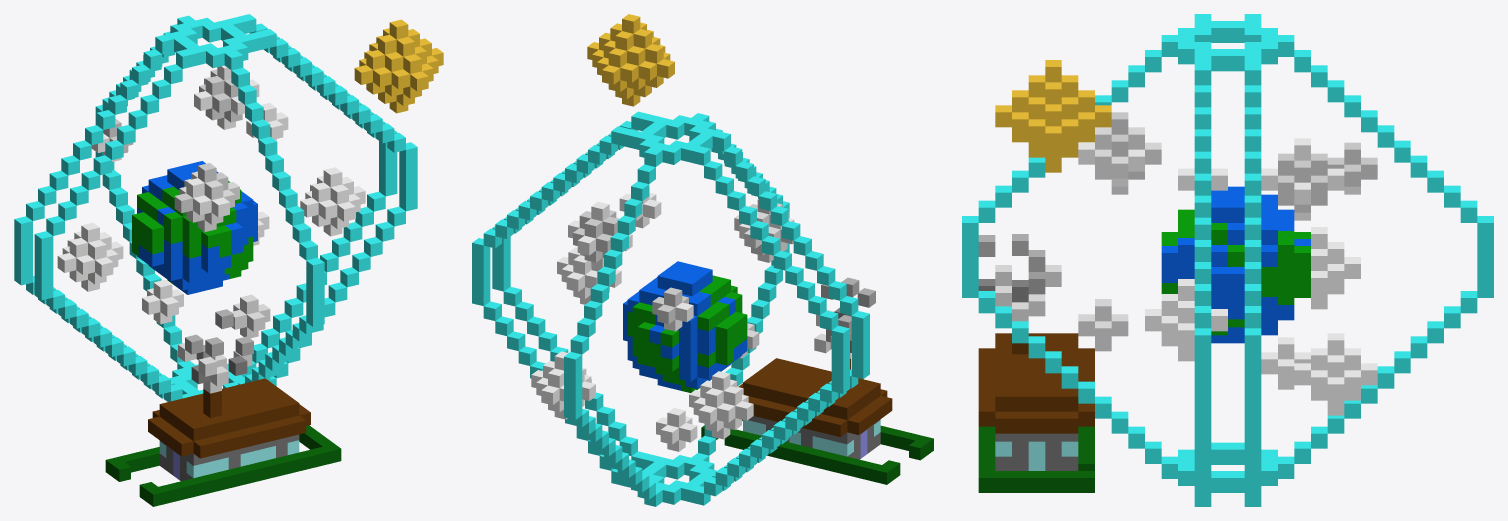
Rendered from household-vox.glb.
3 views of the same model, side by side, from view 1: azimuth 30°, elevation 25°; view 2: azimuth 150°, elevation 25°; view 3: azimuth 270°, elevation 25° (orthographic). The views are drawn at different scales.
Parts seen in each view (by area): view 1: household; view 2: household; view 3: household.
Part boxes in pixels (<box>): household: <box>14,14,443,506</box>; household: <box>472,14,933,506</box>; household: <box>962,14,1493,506</box>.
Bounding box in the file's own units: 3.2 × 3.2 × 3.2.
Materials: 1 (1 with a texture image).
